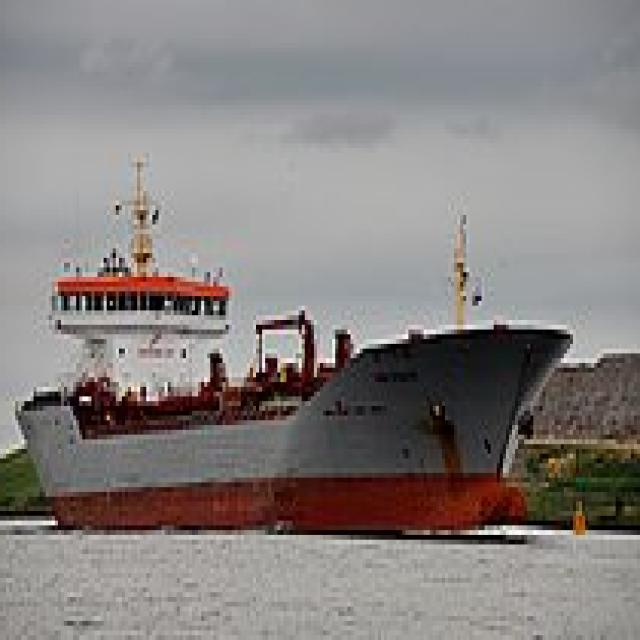Tanker: (15, 139, 582, 530)
